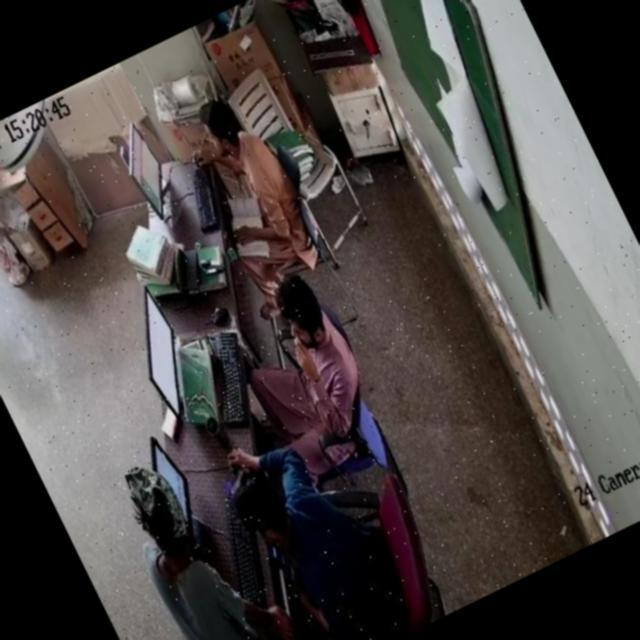person: (223, 426, 404, 640), (219, 266, 387, 475), (109, 456, 276, 640), (188, 90, 315, 266)
